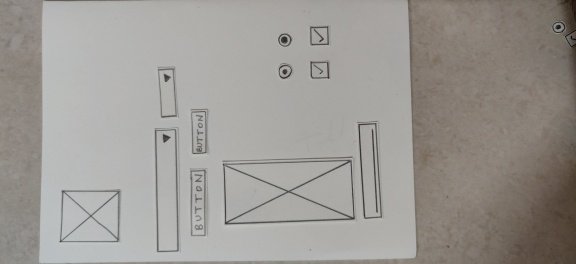button: (186, 166, 210, 241), (188, 106, 210, 157)
checkbox: (306, 24, 331, 48), (307, 59, 332, 81)
dropdown: (151, 126, 182, 255), (154, 64, 181, 121)
img: (218, 154, 356, 226), (56, 186, 124, 246)
radio: (274, 63, 296, 80), (276, 31, 294, 49)
text: (357, 119, 383, 220)
